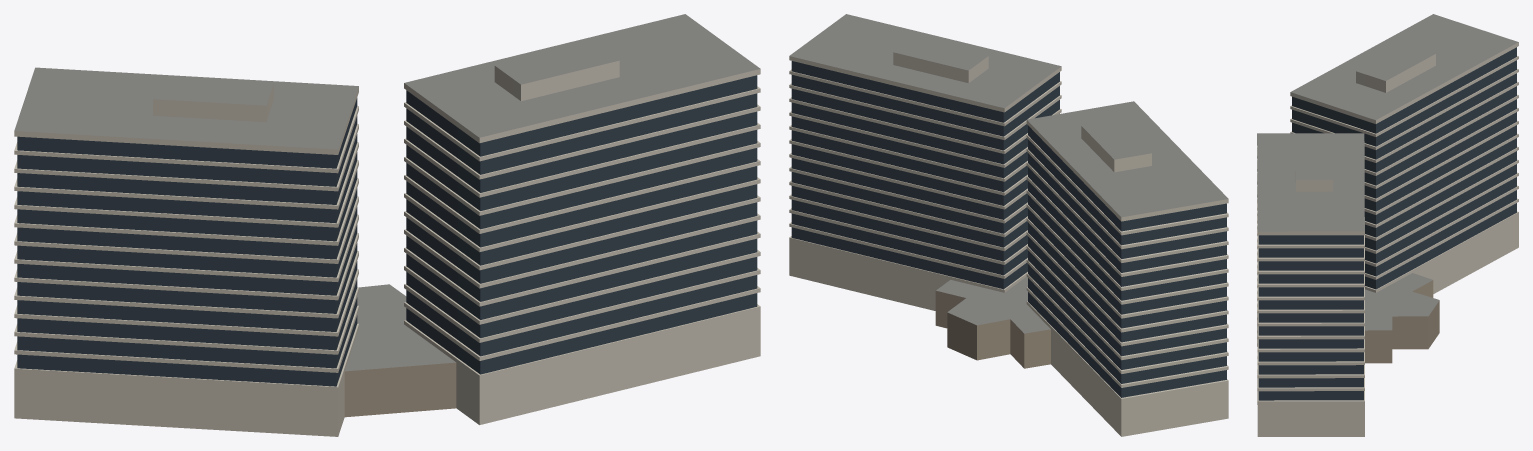
The model's file is zion_summit_condominium.glb.
The picture shows the model from 3 angles, left to right: view 1: azimuth 30°, elevation 25°; view 2: azimuth 150°, elevation 25°; view 3: azimuth 270°, elevation 25°; orthographic projection. The views are drawn at different scales.
Visible parts, largest first — view 1: Zion_Summit_Condominium; view 2: Zion_Summit_Condominium; view 3: Zion_Summit_Condominium.
Boxes of the visible parts, x1,y1,x2,y2 form: Zion_Summit_Condominium: (14,14,760,436); Zion_Summit_Condominium: (789,14,1228,436); Zion_Summit_Condominium: (1257,14,1518,436).
Size of the model in its own units: 118 by 55 by 60.04.
